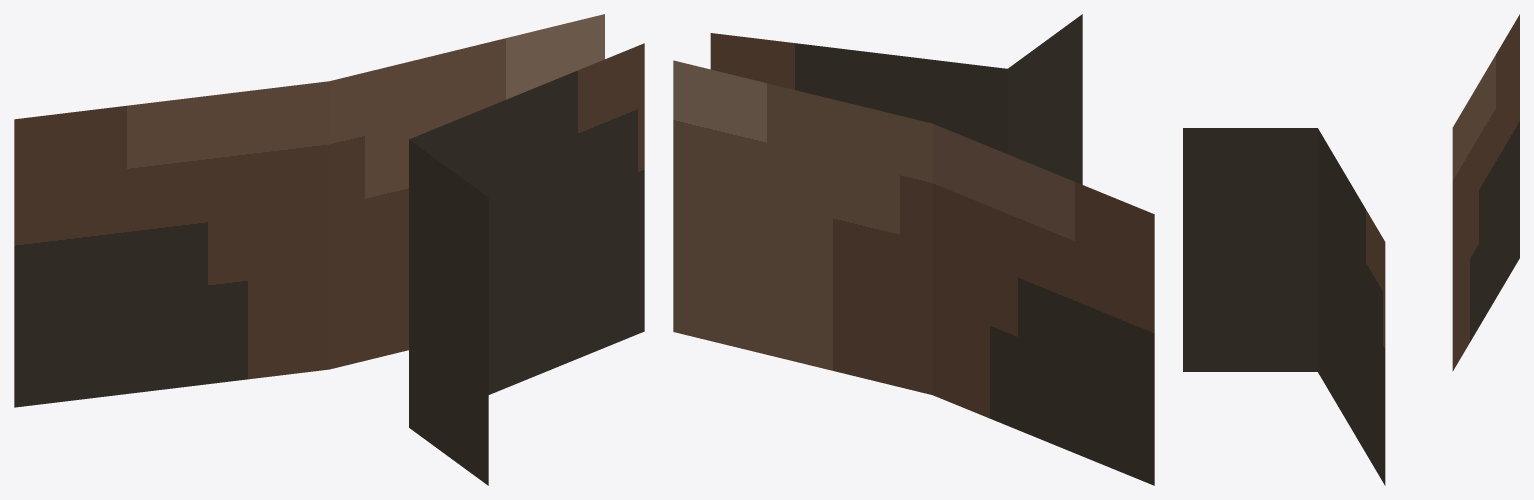
The picture shows the model from 3 angles, left to right: view 1: azimuth 30°, elevation 25°; view 2: azimuth 150°, elevation 25°; view 3: azimuth 270°, elevation 25°; orthographic projection. The views are drawn at different scales.
Bounding box in the file's own units: 1 × 0.5 × 0.625.
1 material, 1 textured.
